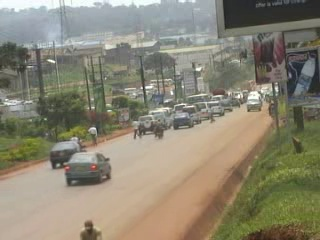Car: (62, 149, 112, 190), (48, 138, 88, 170), (137, 112, 159, 135), (179, 104, 201, 126), (172, 110, 195, 131), (191, 100, 212, 121), (208, 99, 226, 117), (220, 97, 234, 114), (232, 96, 241, 109)
Motorcycle: (149, 117, 167, 142), (70, 133, 84, 149)
